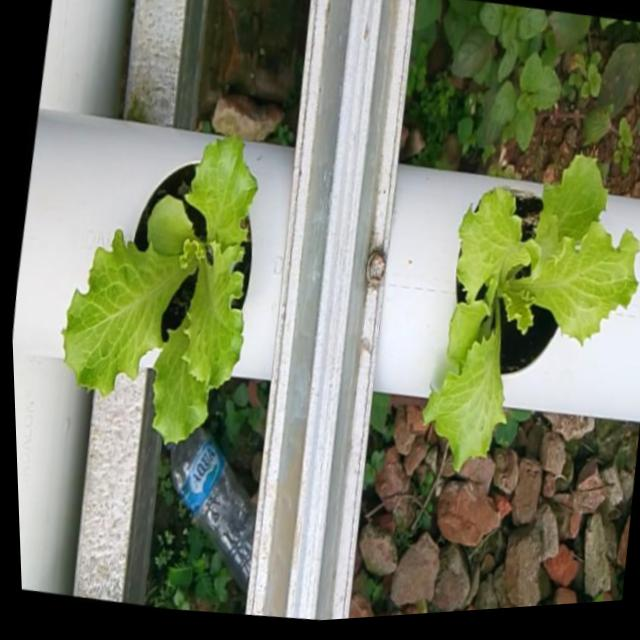Baby: (425, 151, 640, 466), (65, 132, 260, 442)
